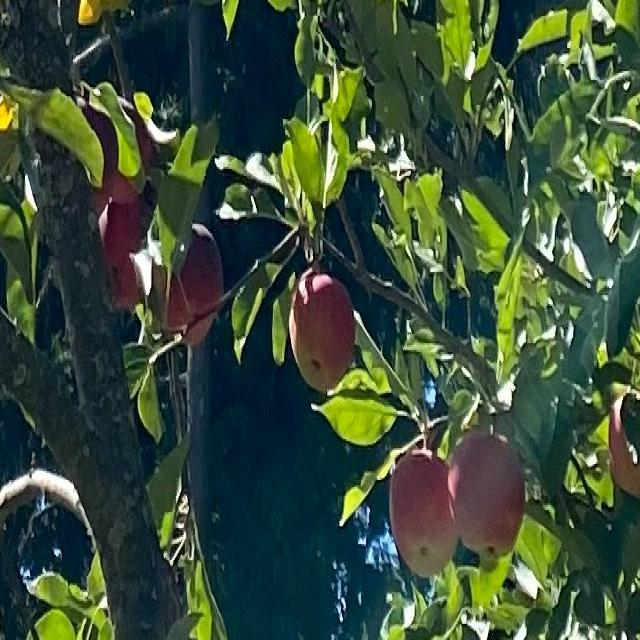Apples: (447, 432, 527, 553), (291, 267, 357, 389), (392, 452, 456, 576), (163, 222, 223, 343), (73, 100, 119, 222), (99, 204, 149, 304), (112, 100, 152, 204), (610, 391, 639, 500)
